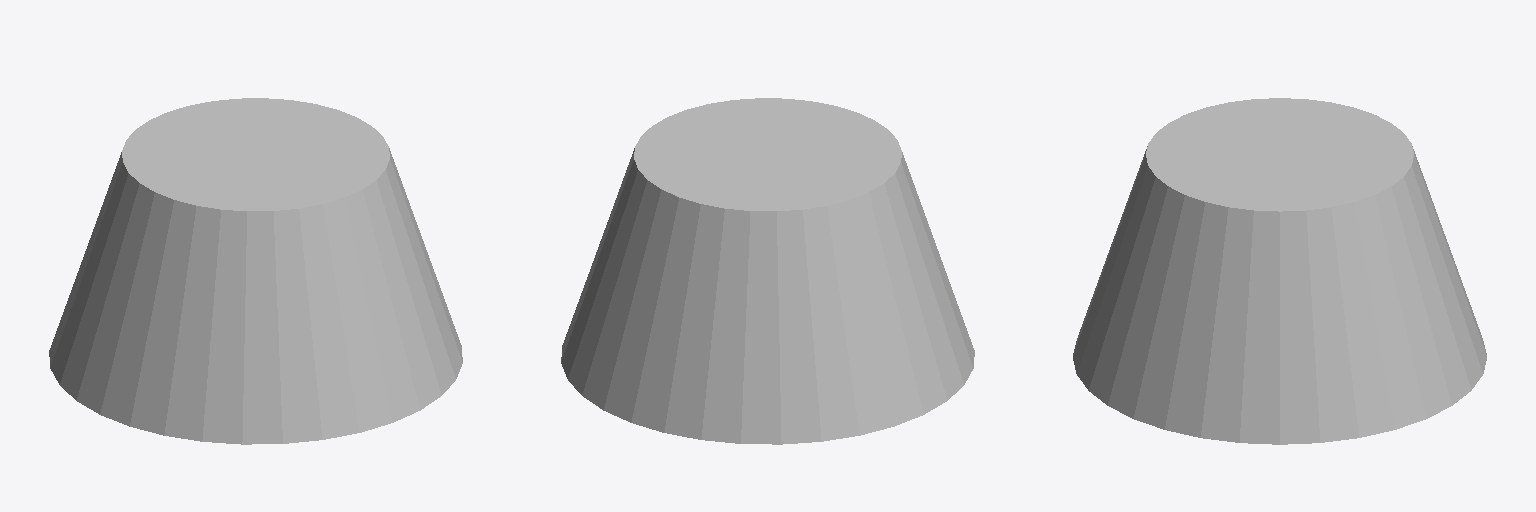
The model's file is Skirt.obj.
3 views of the same model, side by side, from view 1: azimuth 30°, elevation 25°; view 2: azimuth 150°, elevation 25°; view 3: azimuth 270°, elevation 25° (orthographic).
Visible parts, largest first — view 1: Cylinder; view 2: Cylinder; view 3: Cylinder.
Part boxes in pixels (left/top/right/bottom): Cylinder: left=49, top=98, right=462, bottom=444; Cylinder: left=561, top=98, right=974, bottom=444; Cylinder: left=1073, top=98, right=1486, bottom=444.
Size of the model in its own units: 2 by 1.08 by 2.